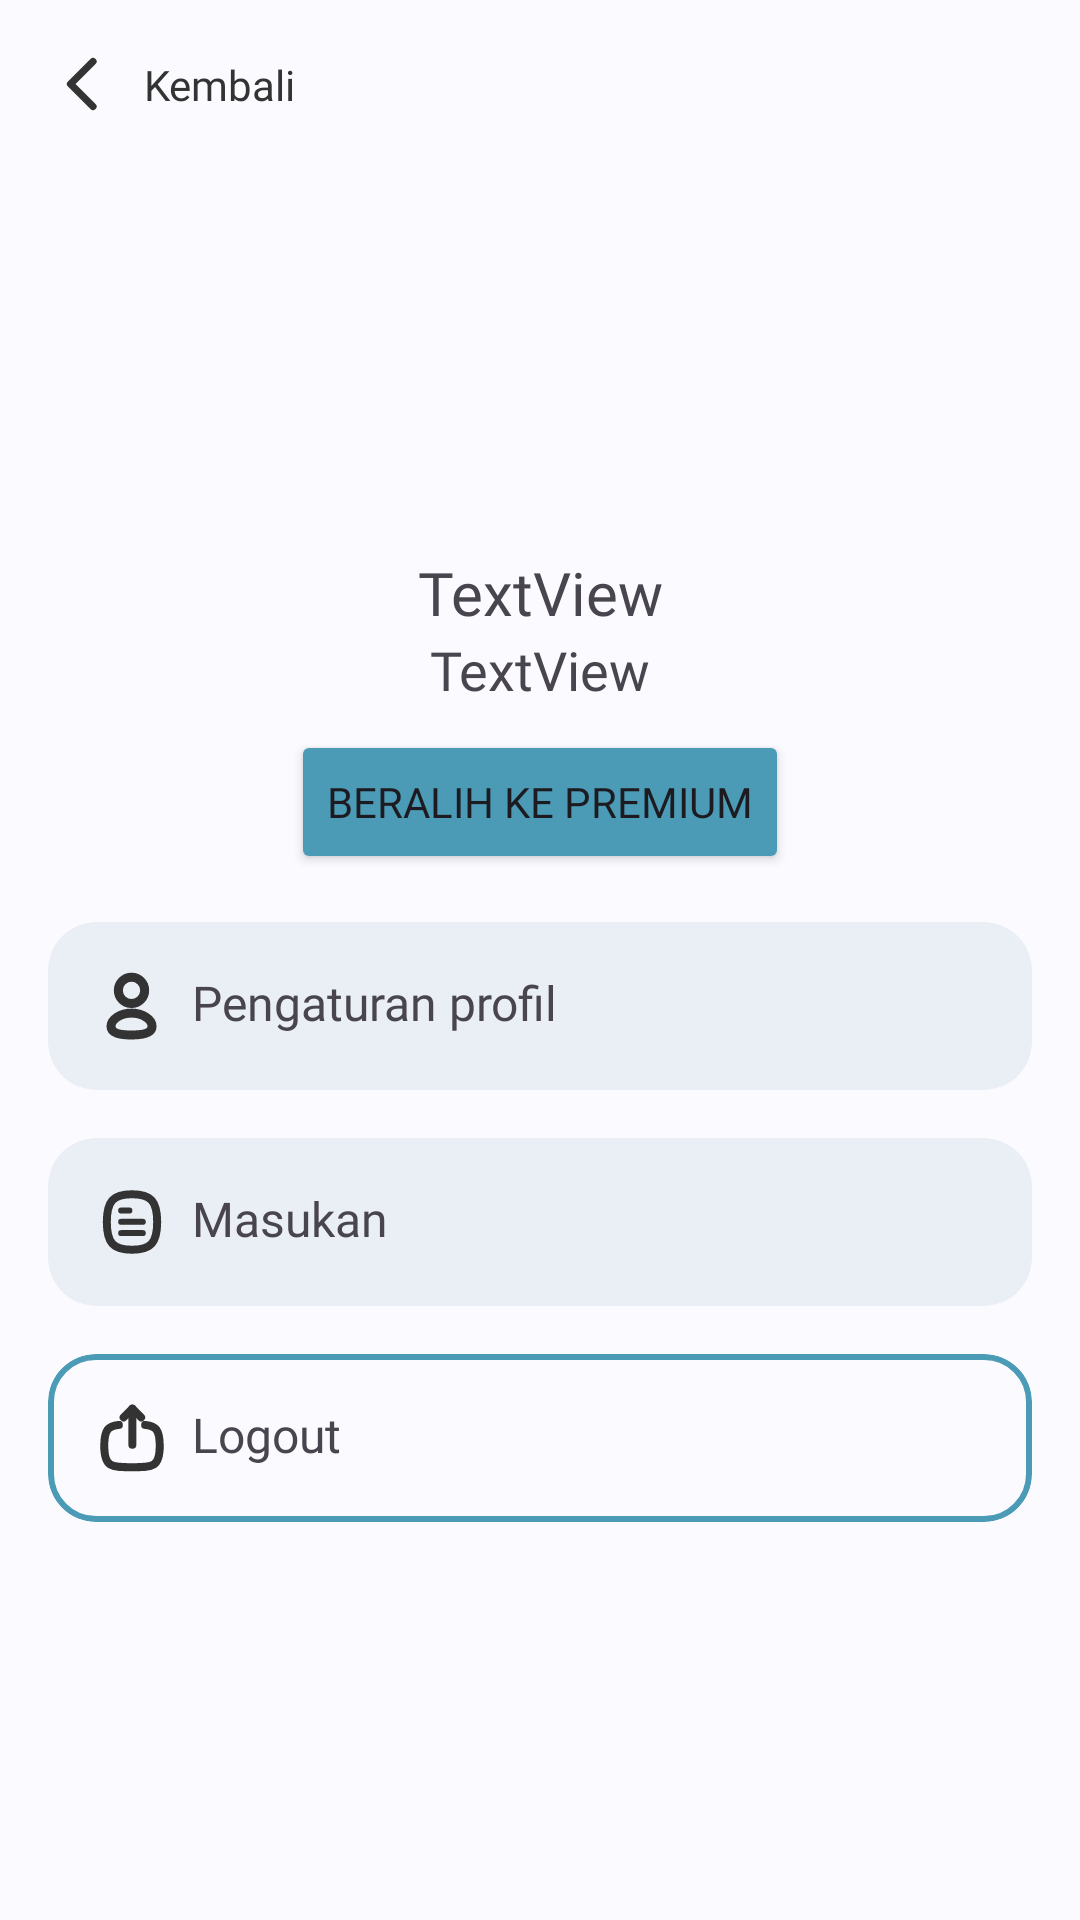

Icons on this 1080 × 1920 Android screen, each with the point to tap as [x,y]:
caretleft: [81,84]
document: [132,1222]
profile: [131,1006]
upload: [132,1438]
